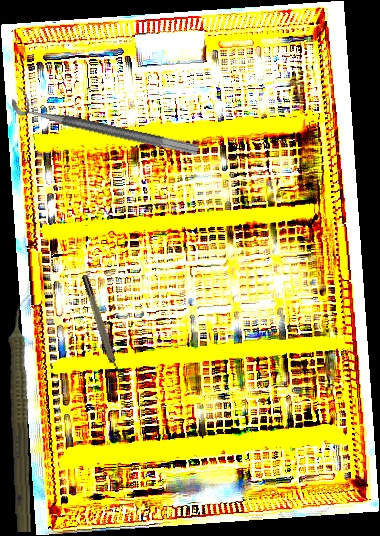Fixation Ring: (9, 85, 203, 157), (79, 272, 127, 385)
Handpiece: (3, 294, 42, 533)
